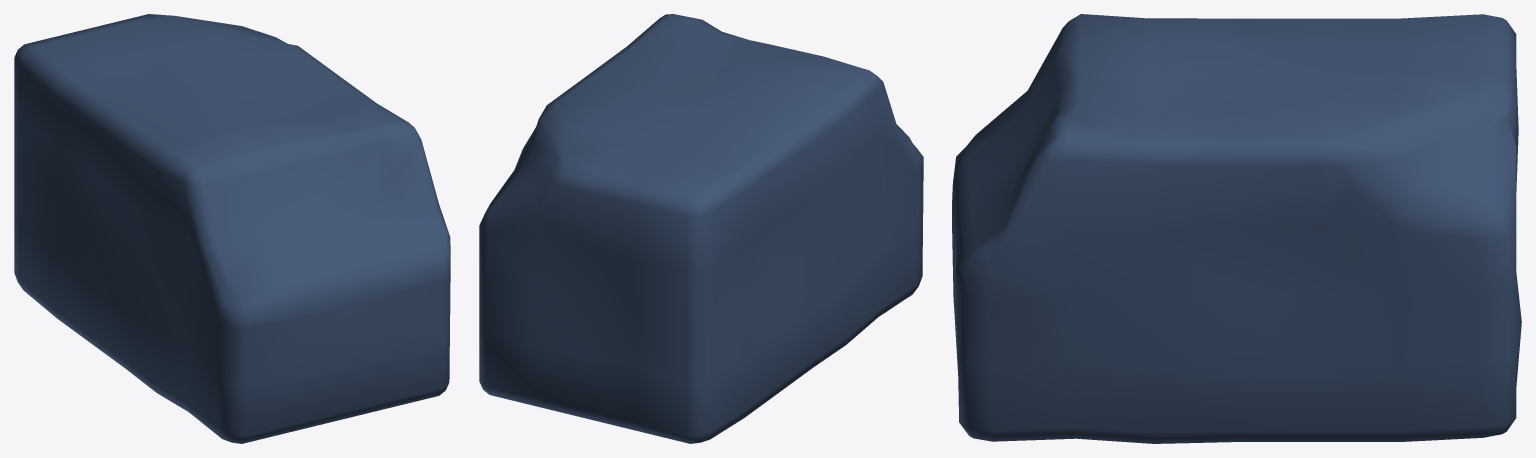
File: bricks-2.obj
3 views of the same model, side by side, from view 1: azimuth 30°, elevation 25°; view 2: azimuth 150°, elevation 25°; view 3: azimuth 270°, elevation 25° (orthographic). The views are drawn at different scales.
Visible parts, largest first — view 1: Cube.001; view 2: Cube.001; view 3: Cube.001.
Part boxes in pixels (x1=…): Cube.001: x1=14, y1=14, x2=450, y2=443; Cube.001: x1=479, y1=14, x2=923, y2=443; Cube.001: x1=952, y1=14, x2=1521, y2=443.
Bounding box in the file's own units: 0.4758 × 0.5033 × 0.8153.
